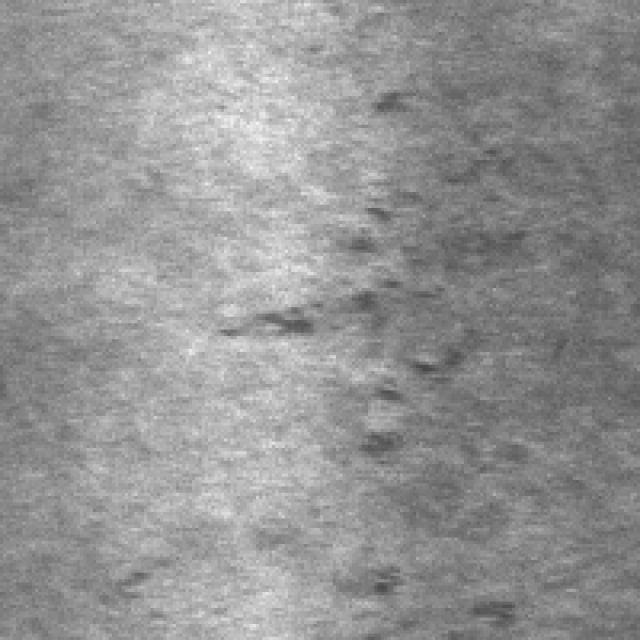rolled-in_scale: (314, 99, 518, 573)
